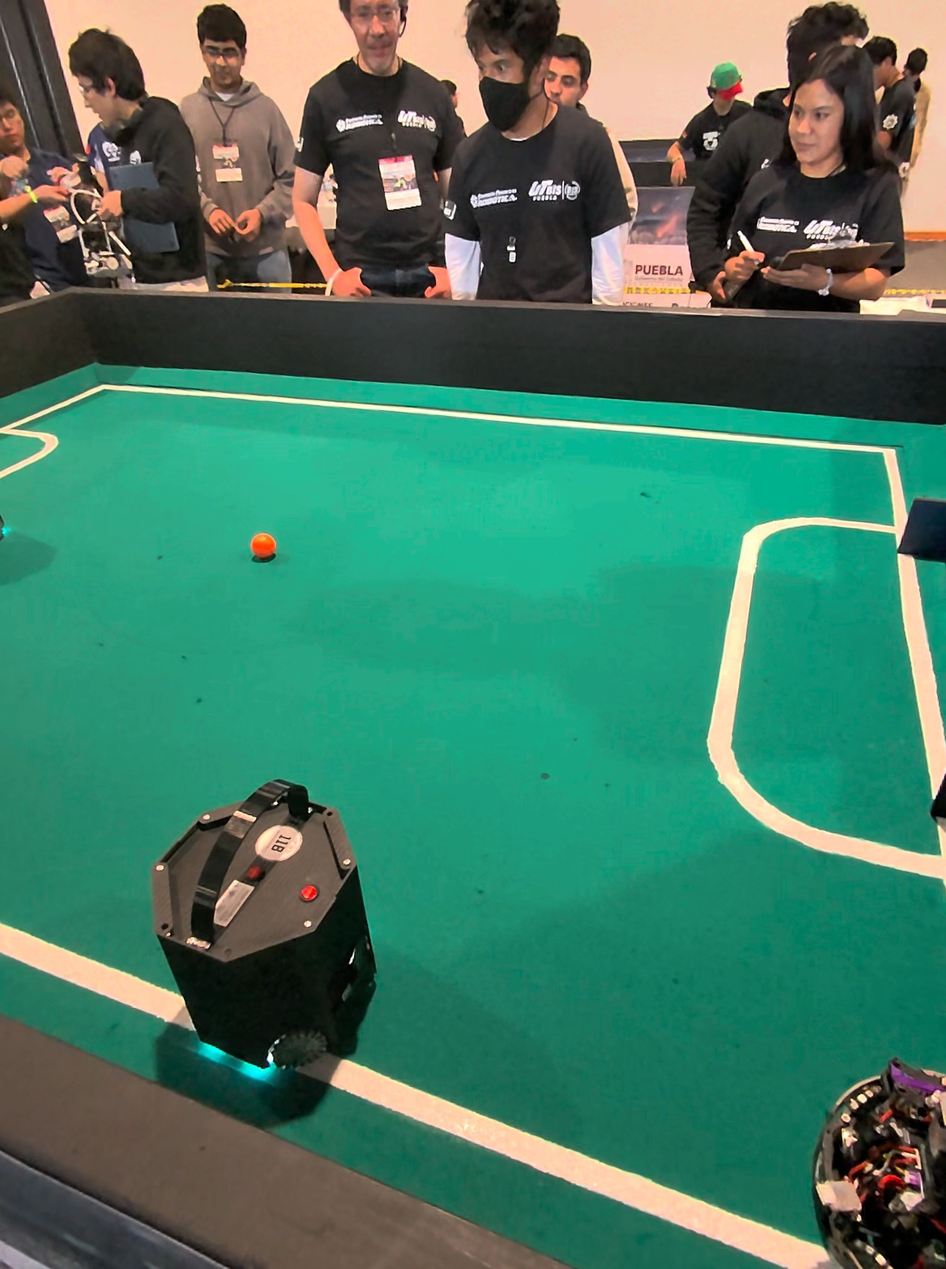Robot: (140, 761, 401, 1112), (812, 1041, 946, 1269)
pelota: (239, 526, 285, 575)
